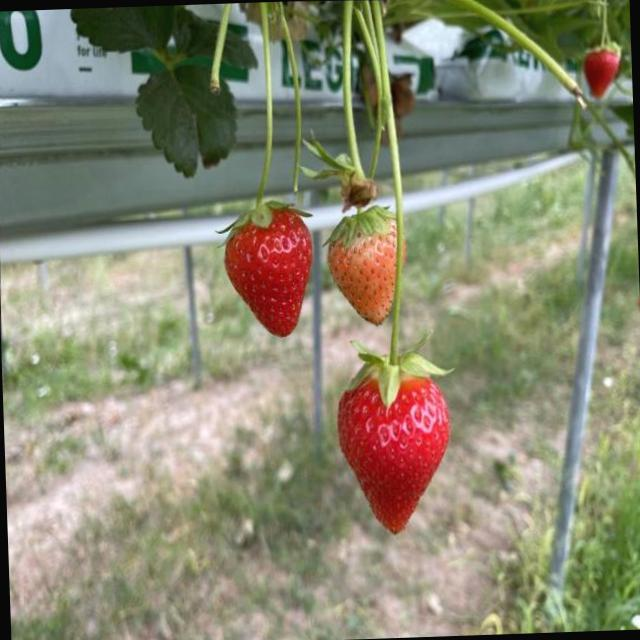stem: (350, 58, 444, 406), (220, 2, 291, 230), (342, 0, 372, 207), (327, 207, 394, 247), (373, 6, 385, 73)
strawberryNR: (325, 225, 394, 321)
strawberryR: (339, 376, 448, 529), (224, 208, 310, 333)
